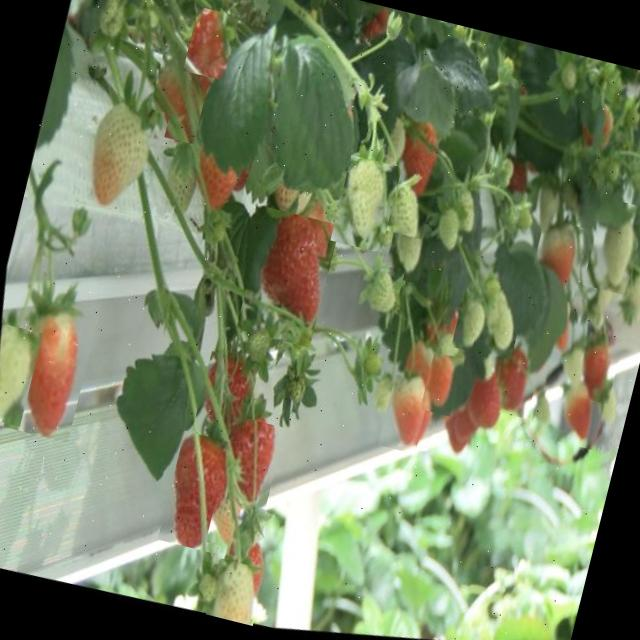ripe: (236, 206, 340, 348), (158, 430, 242, 554), (214, 416, 285, 510), (386, 108, 454, 206), (191, 351, 260, 443), (487, 338, 544, 419), (460, 373, 512, 444), (436, 410, 478, 460)
unripe: (4, 298, 100, 442), (70, 96, 170, 219), (329, 154, 402, 252), (143, 47, 214, 144), (582, 197, 640, 295), (186, 146, 252, 228), (526, 218, 590, 302), (548, 374, 608, 450), (0, 323, 43, 427), (378, 374, 433, 454), (471, 282, 527, 360), (182, 6, 240, 80), (206, 558, 266, 626), (350, 259, 406, 329), (378, 172, 434, 239), (396, 374, 444, 452), (574, 331, 624, 404), (383, 217, 432, 284), (206, 489, 256, 552), (419, 352, 464, 416), (397, 338, 442, 400), (427, 204, 469, 264), (451, 294, 491, 353)
